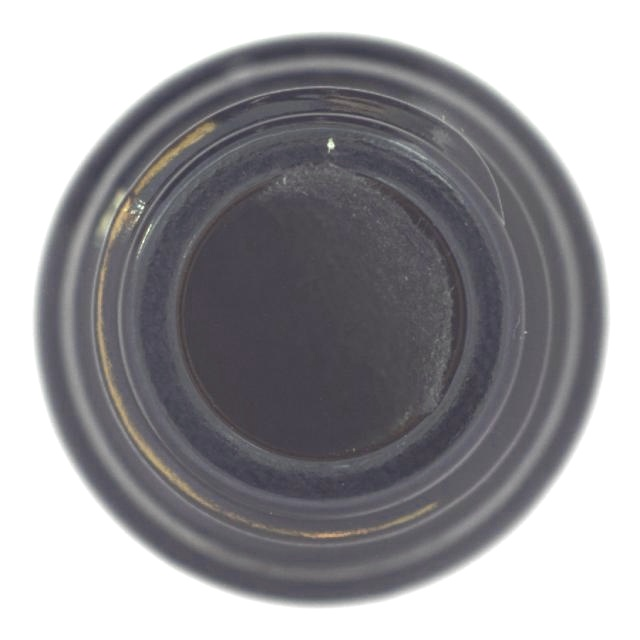bad-contamination: (31, 30, 612, 610)
